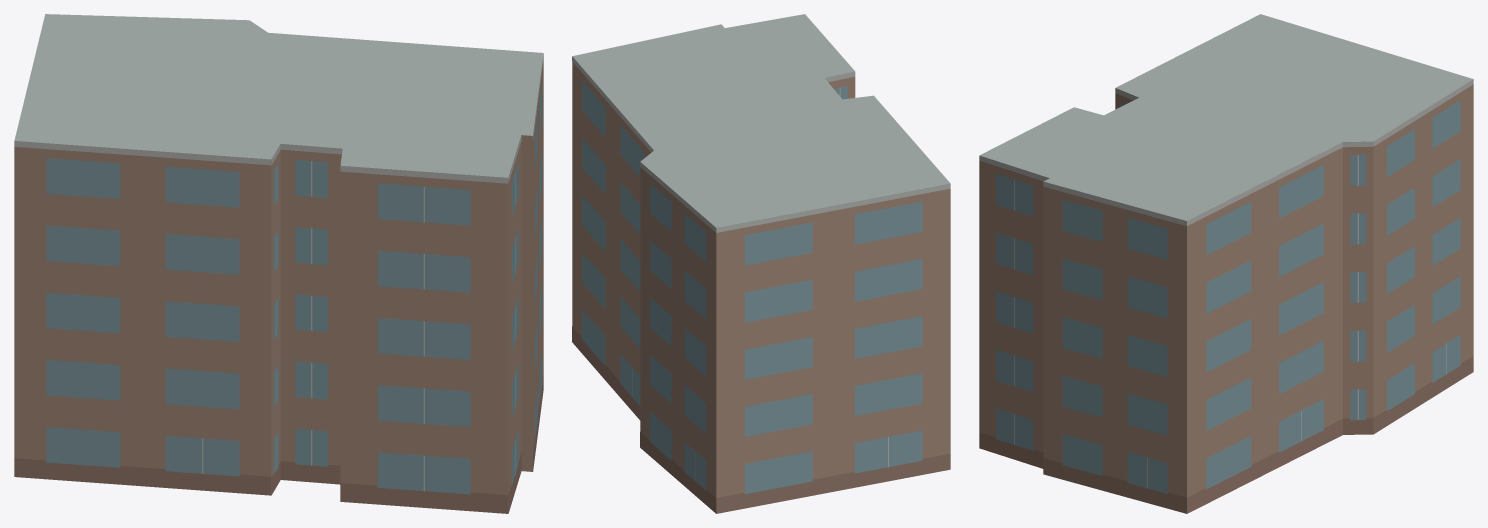
Rendered from survey-upis-32933797.glb.
The picture shows the model from 3 angles, left to right: view 1: azimuth 30°, elevation 25°; view 2: azimuth 150°, elevation 25°; view 3: azimuth 270°, elevation 25°; orthographic projection. The views are drawn at different scales.
Visible parts, largest first — view 1: survey-upis-32933797.tmp; view 2: survey-upis-32933797.tmp; view 3: survey-upis-32933797.tmp.
Boxes of the visible parts, left/top/right/bottom form: survey-upis-32933797.tmp: left=14, top=14, right=543, bottom=513; survey-upis-32933797.tmp: left=572, top=14, right=950, bottom=513; survey-upis-32933797.tmp: left=979, top=14, right=1473, bottom=513.
Size of the model in its own units: 21.09 by 13.9 by 21.28.
